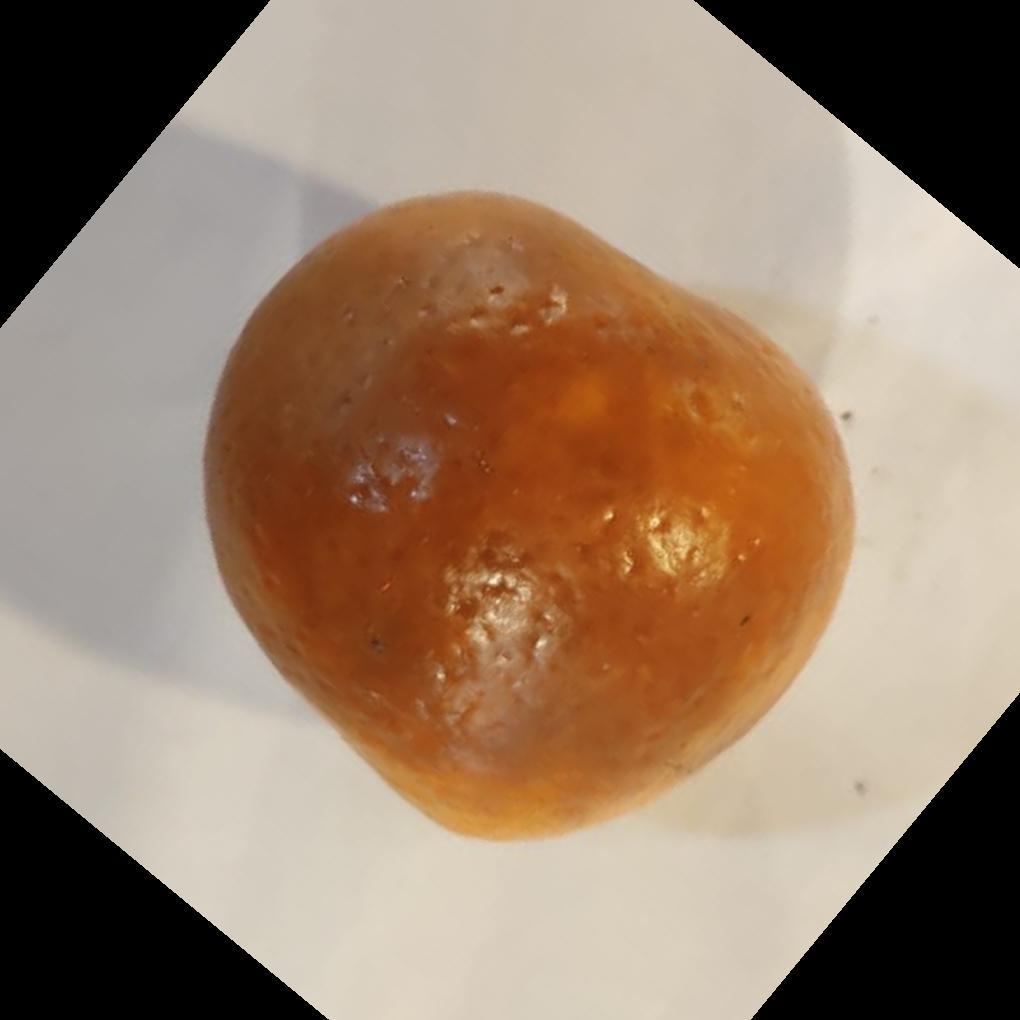FreshOrange: (200, 191, 858, 848)
